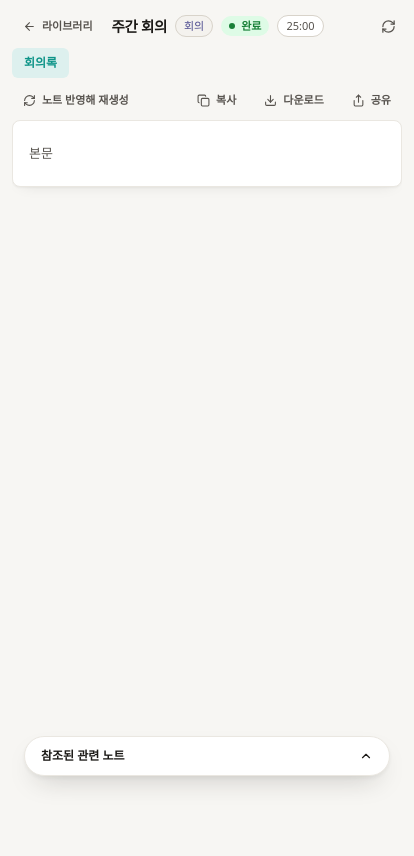
Test case: 재생성 — 회의록·요약 탭에서만, 접힘이 기본 › 눌러야 얇은 입력 줄이 열린다
Click the button "노트 반영해 재생성" at (76,100), box left=12, top=86, right=140, bottom=114
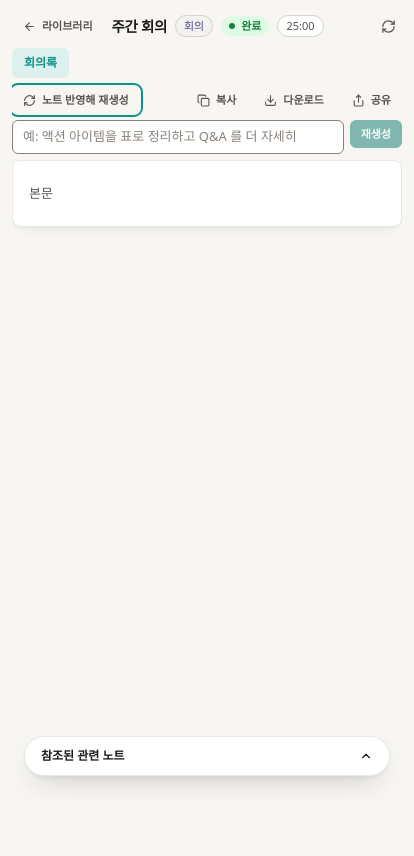
Expected: the field named "재생성 지시" is shown, left=12, top=120, right=344, bottom=154
Expected: the button "재생성" is disabled, left=350, top=120, right=402, bottom=148
